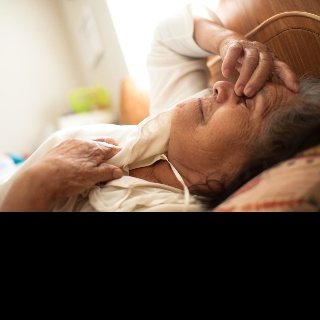without_mask: (170, 79, 303, 174)
